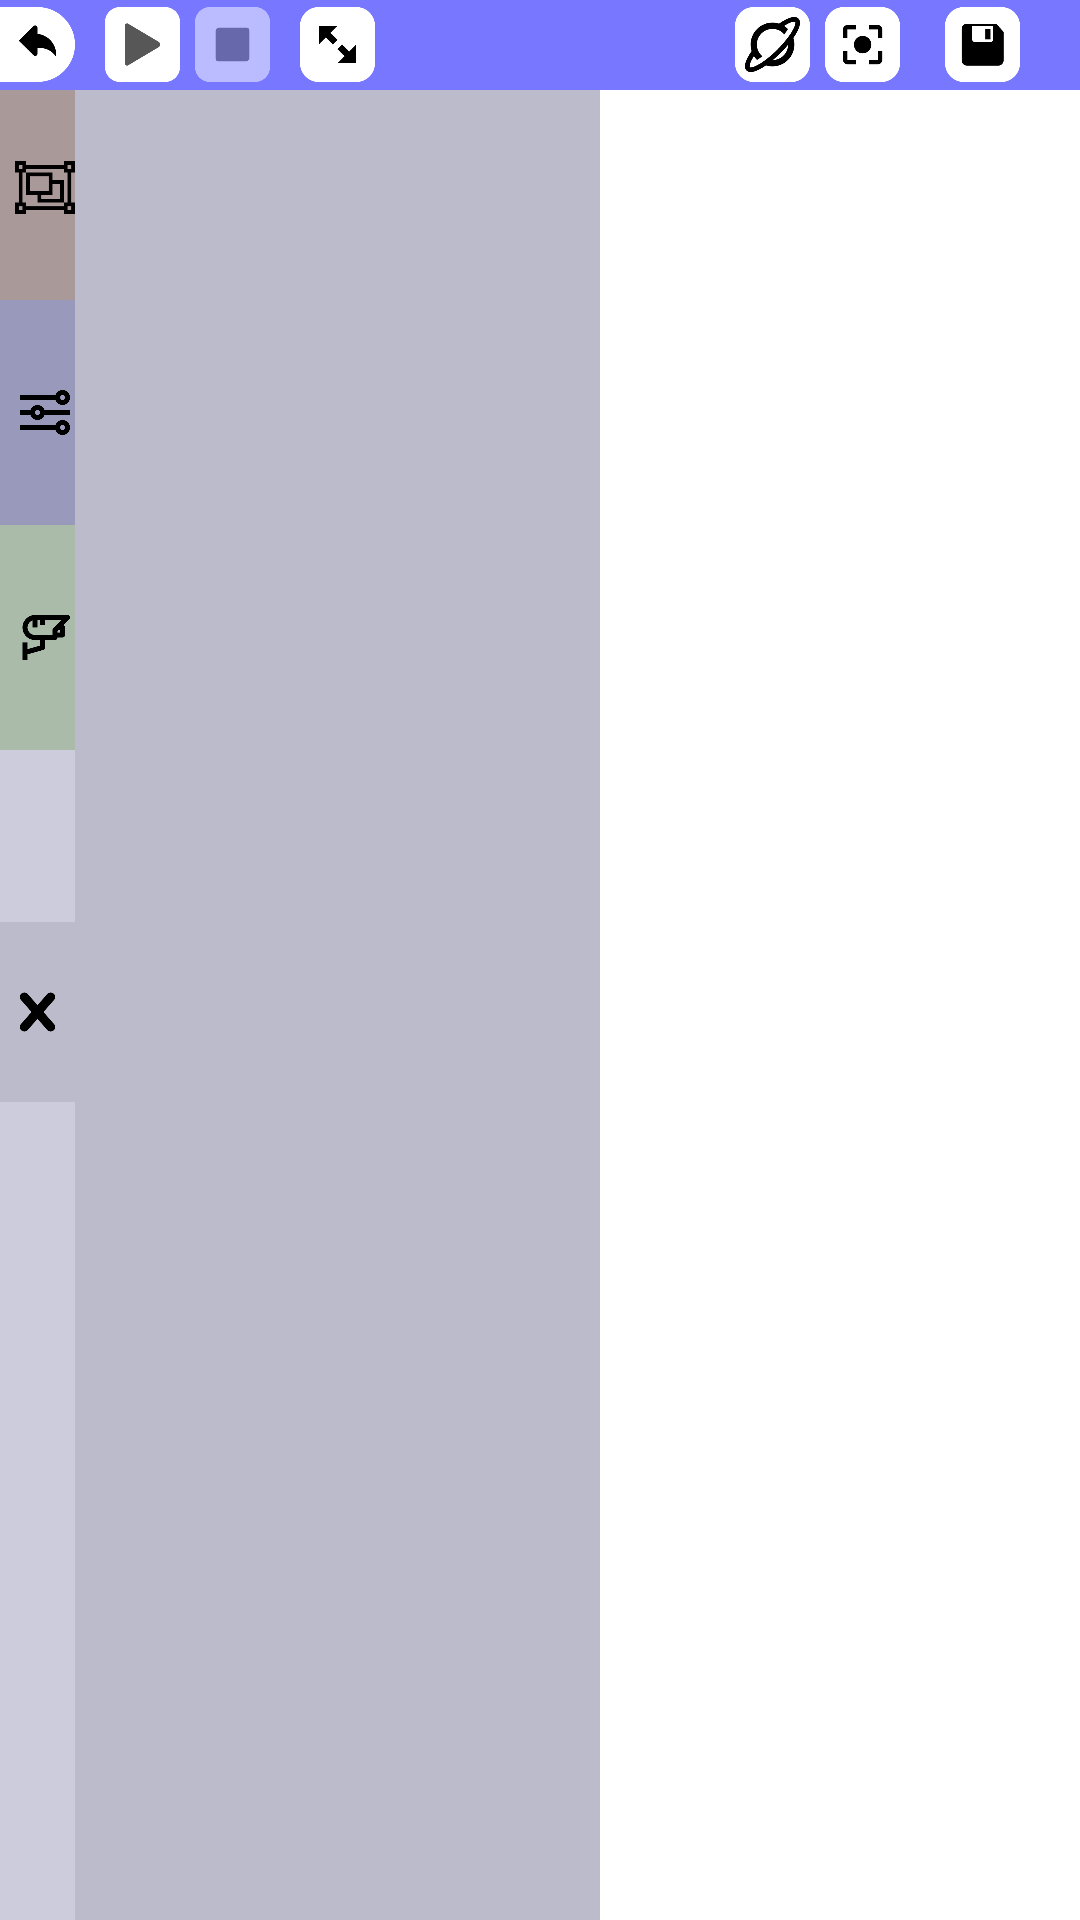

Named icons in this screenshot (1080w x 1920h) and their bounding boxes, region(x1, y1, x2, y2):
back: region(0, 7, 75, 82)
focus center: region(825, 7, 900, 82)
fullscreen: region(300, 7, 375, 82)
play: region(105, 7, 180, 82)
save: region(945, 7, 1020, 82)
stop: region(195, 7, 270, 82)
